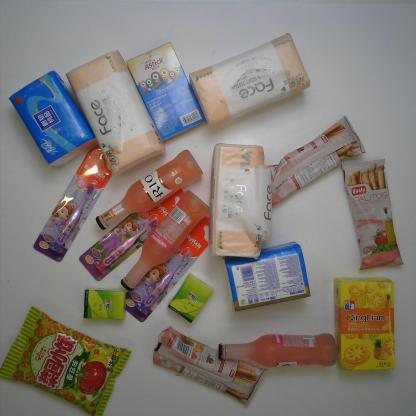Alcohol: (118, 188, 213, 290), (96, 148, 206, 228), (216, 332, 339, 372)
Dessert: (151, 325, 266, 407), (272, 114, 366, 210), (124, 40, 207, 144), (338, 155, 404, 272), (332, 276, 396, 373)
Personal Hygiene: (74, 186, 184, 282), (31, 144, 115, 263), (124, 214, 211, 323)
Puffed Food: (0, 305, 133, 416)
Tissue: (63, 48, 166, 174), (188, 32, 311, 130), (8, 69, 96, 168), (209, 140, 275, 262), (222, 238, 315, 312), (165, 272, 215, 328), (82, 288, 126, 324)
